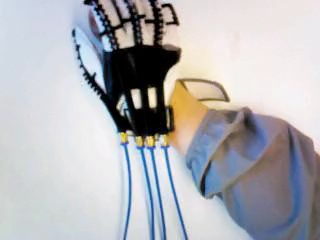hand: (69, 1, 183, 148)
